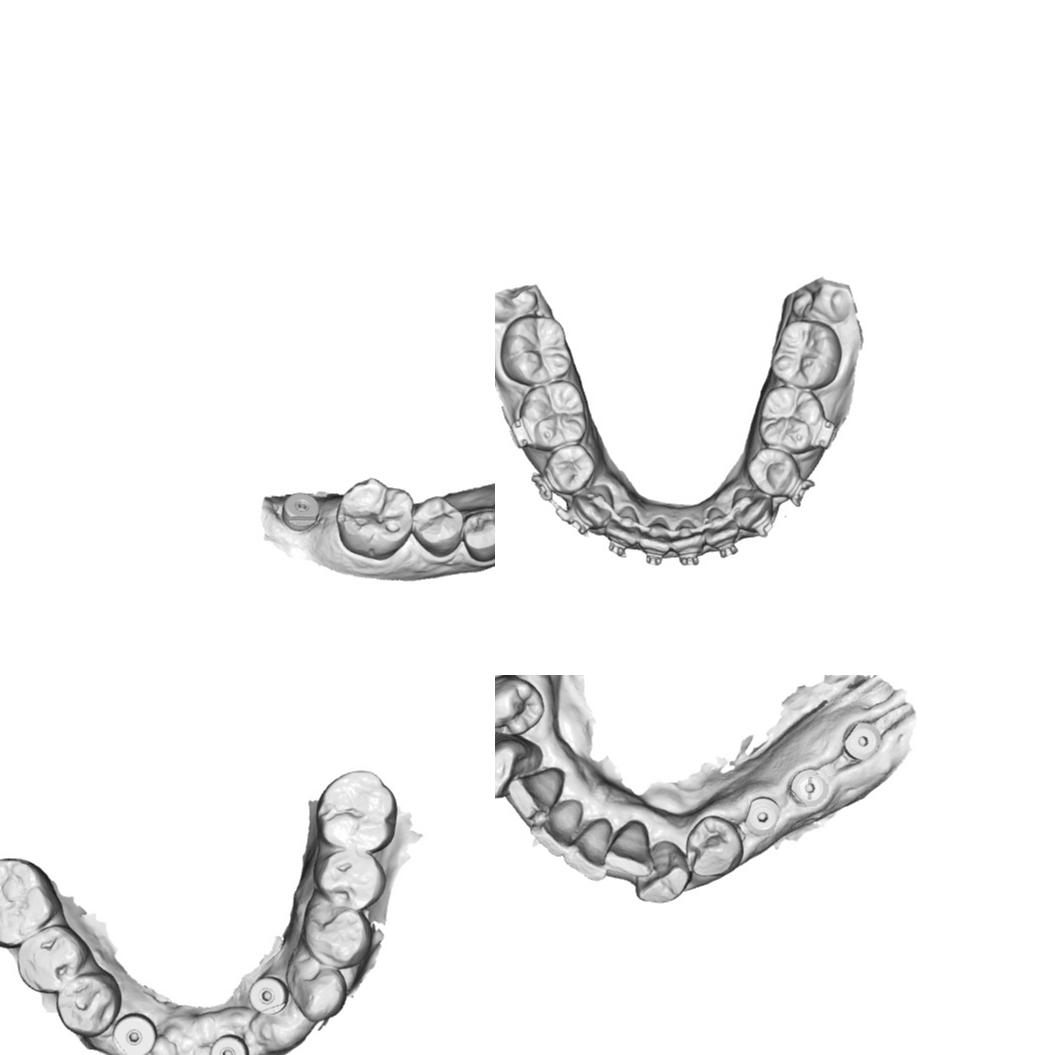canine: (288, 955, 348, 1023), (635, 843, 691, 905), (730, 485, 774, 537), (570, 482, 614, 532), (495, 740, 533, 797)
implant: (111, 1013, 158, 1055), (280, 490, 321, 533), (842, 719, 882, 762), (248, 976, 290, 1014), (743, 796, 782, 834), (209, 1032, 251, 1055)
implant_minus: (789, 771, 829, 806)
incisor: (501, 770, 559, 828), (564, 824, 614, 880), (609, 820, 655, 877), (532, 803, 579, 856), (604, 503, 642, 554), (702, 504, 742, 549), (669, 515, 708, 558), (637, 513, 671, 557)
molar: (317, 769, 400, 853), (334, 475, 413, 562), (0, 856, 63, 948), (499, 313, 574, 386), (768, 319, 844, 390), (517, 378, 587, 453), (757, 384, 823, 453)
premolar: (15, 921, 92, 995), (315, 848, 388, 911), (304, 903, 372, 970), (55, 972, 120, 1035), (685, 815, 745, 877), (410, 494, 464, 558), (744, 446, 803, 498), (495, 675, 545, 735), (546, 442, 597, 495), (460, 506, 495, 563)
